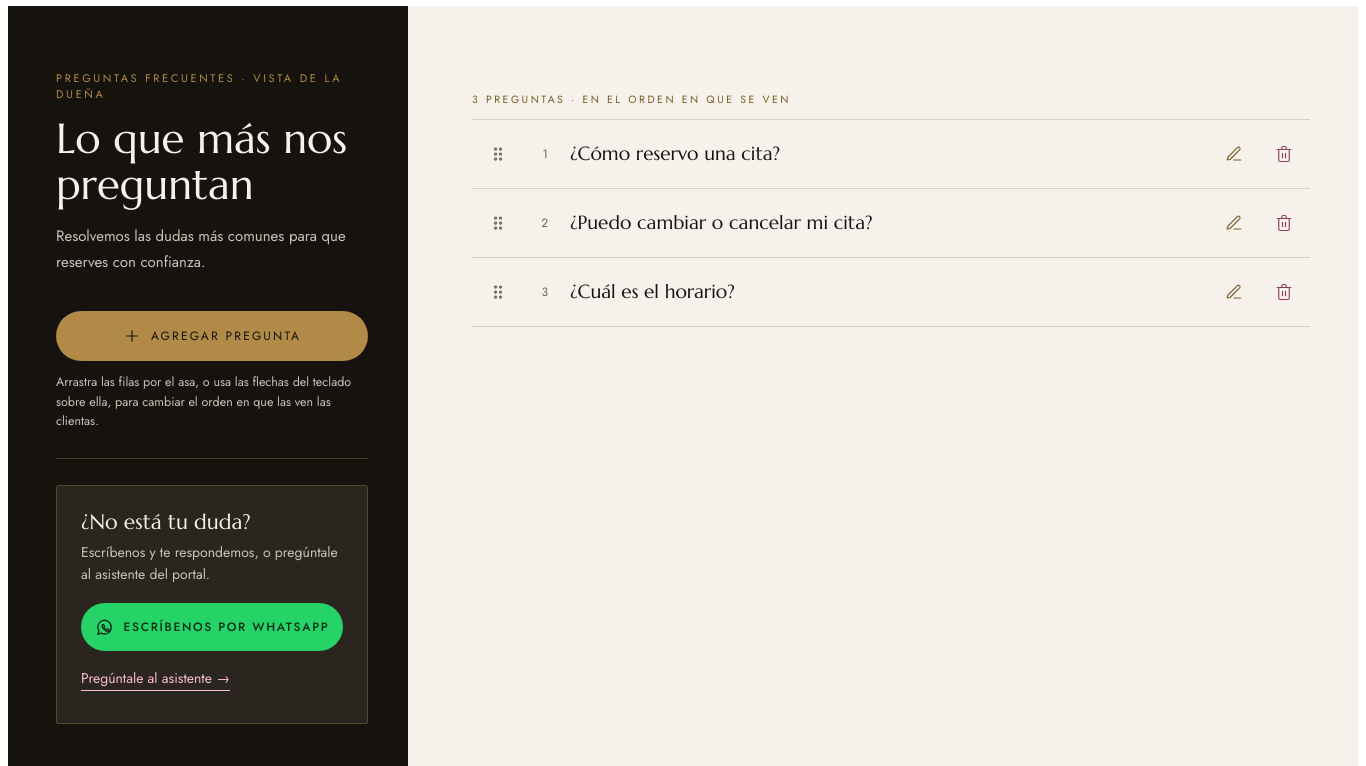
Scenario: FaqPage · la dueña › borrar pide confirmación, borra por id y lo dice
Step 1. Click the 3rd button with test id "borrar-pregunta" → (1284, 292), box [1262,270,1306,314]
(page scrolled)
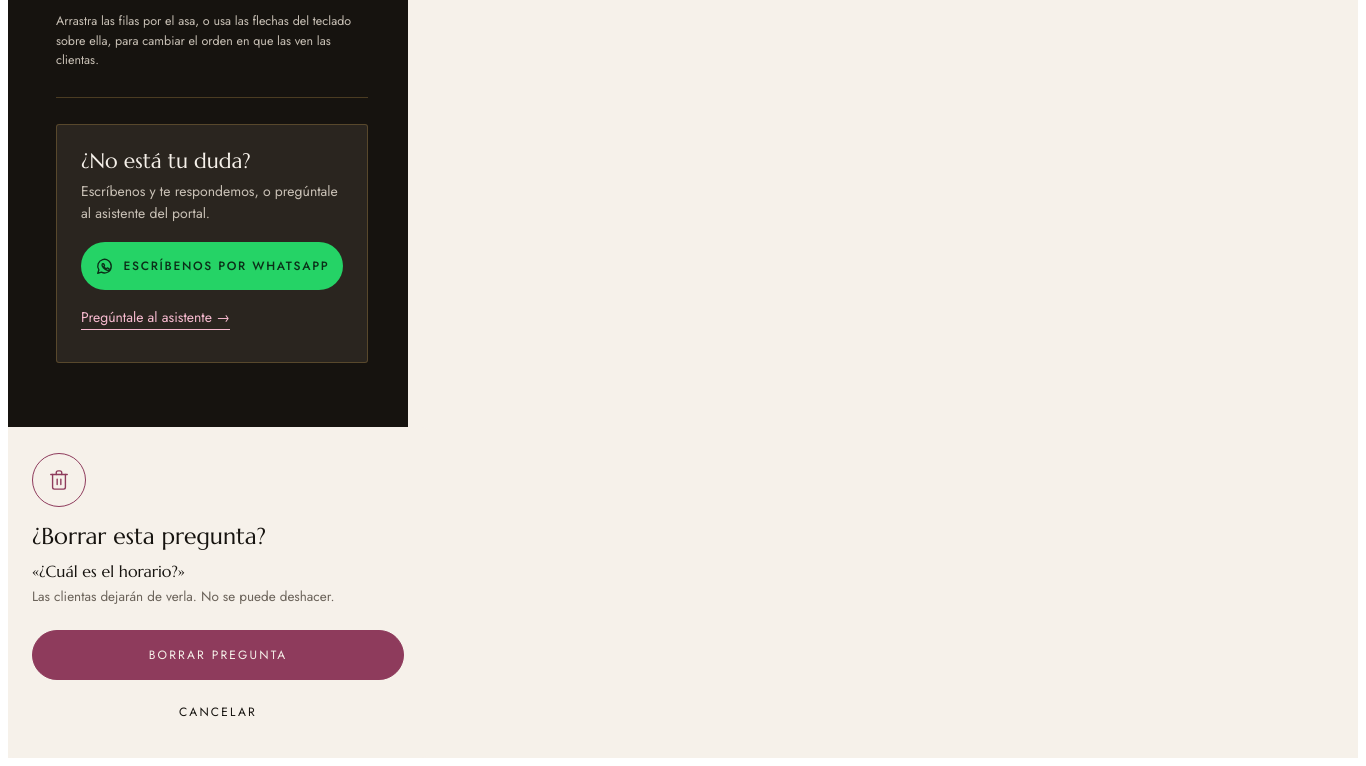
expect the text with test id "pregunta-a-borrar" reads "«¿Cuál es el horario?»": met, box [32,561,185,581]
Step 2. Click the button with test id "confirmar-borrado" → (218, 655), box [32,630,404,680]
(page scrolled)
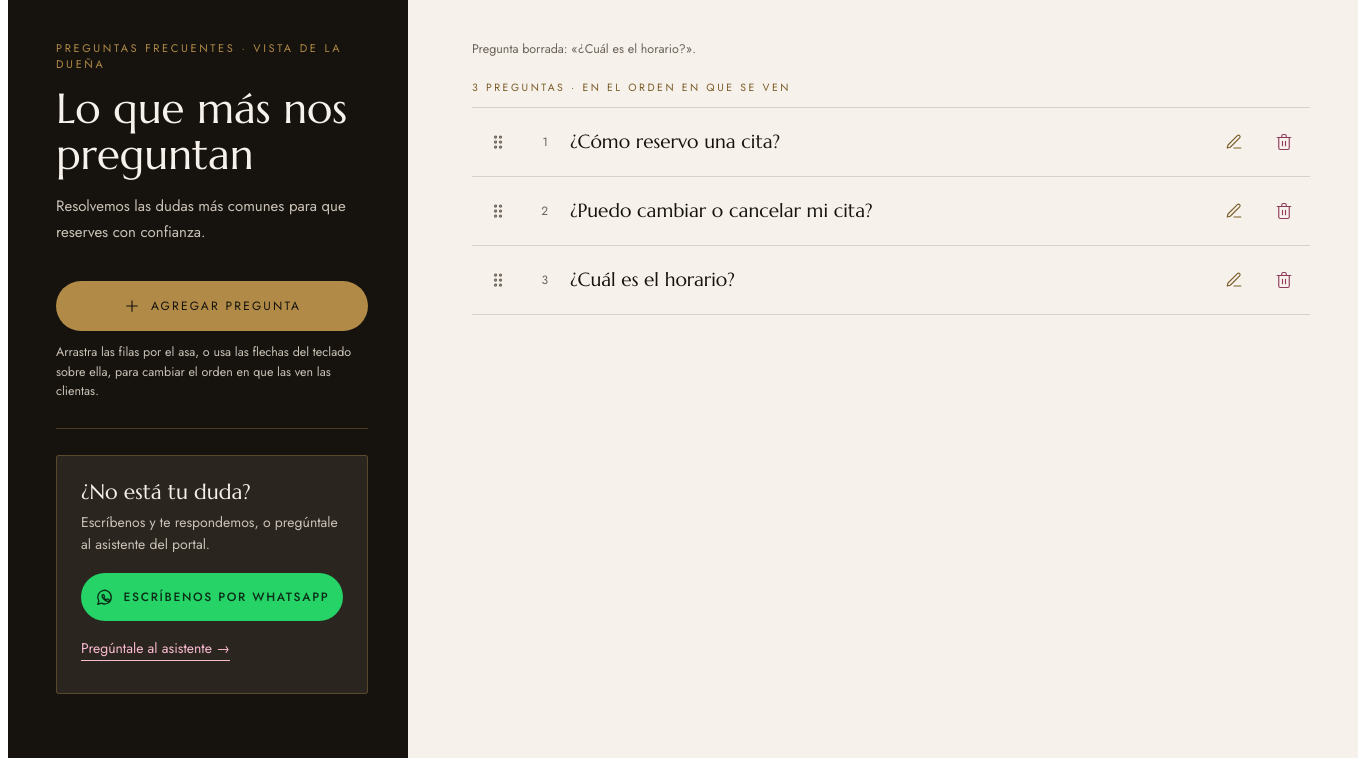
expect the message with test id "estado-preguntas" reads "Pregunta borrada: «¿Cuál es el horario?».": met, box [472,40,696,58]
